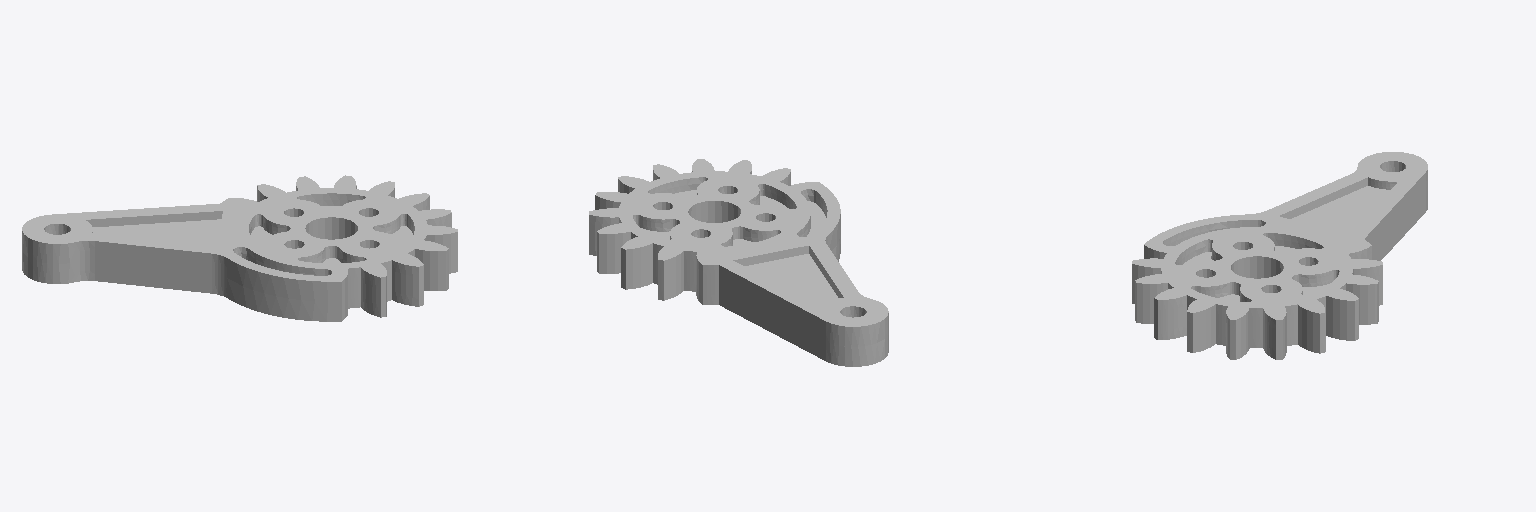
Rendered from gripper_left3.obj.
3 views of the same model, side by side, from view 1: azimuth 30°, elevation 25°; view 2: azimuth 150°, elevation 25°; view 3: azimuth 270°, elevation 25° (orthographic).
Size of the model in its own units: 0.045 by 0.005 by 0.0335.